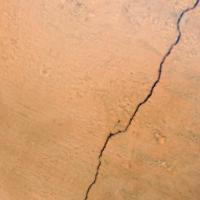crack: (76, 2, 199, 199)
